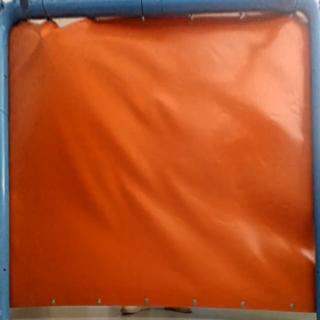Hit-hRxx: (37, 30, 51, 40)
